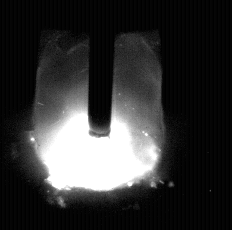arame: (88, 0, 113, 137)
poca: (33, 0, 164, 230)
